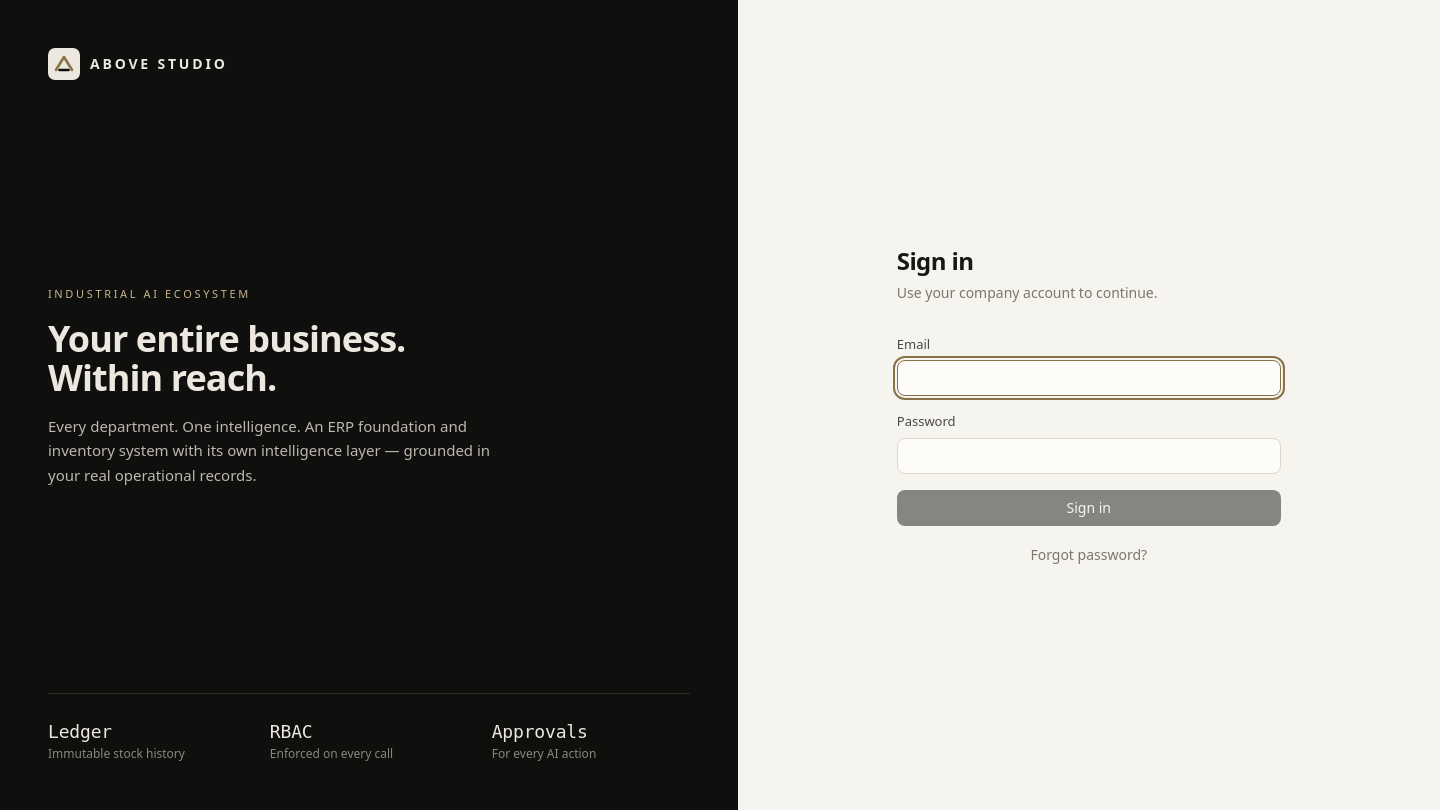
Test case: LoginPage › shows server errors
Type "x@demo.example.com" into the field labelled "Email" at [1089, 378], box x1=897 y1=360 x2=1281 y2=396
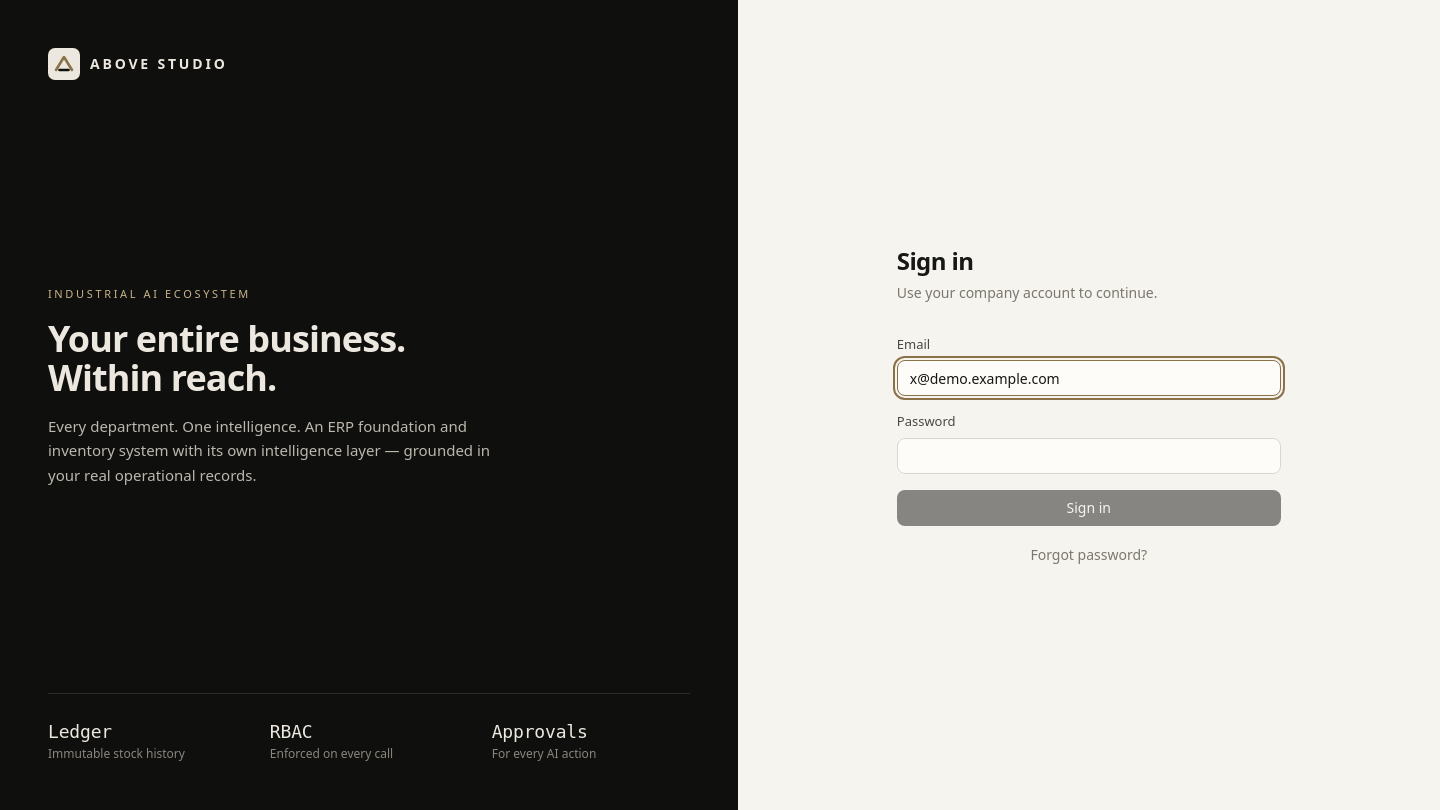
Type "wrong" into the password field labelled "Password" at [1089, 456], box x1=897 y1=438 x2=1281 y2=474
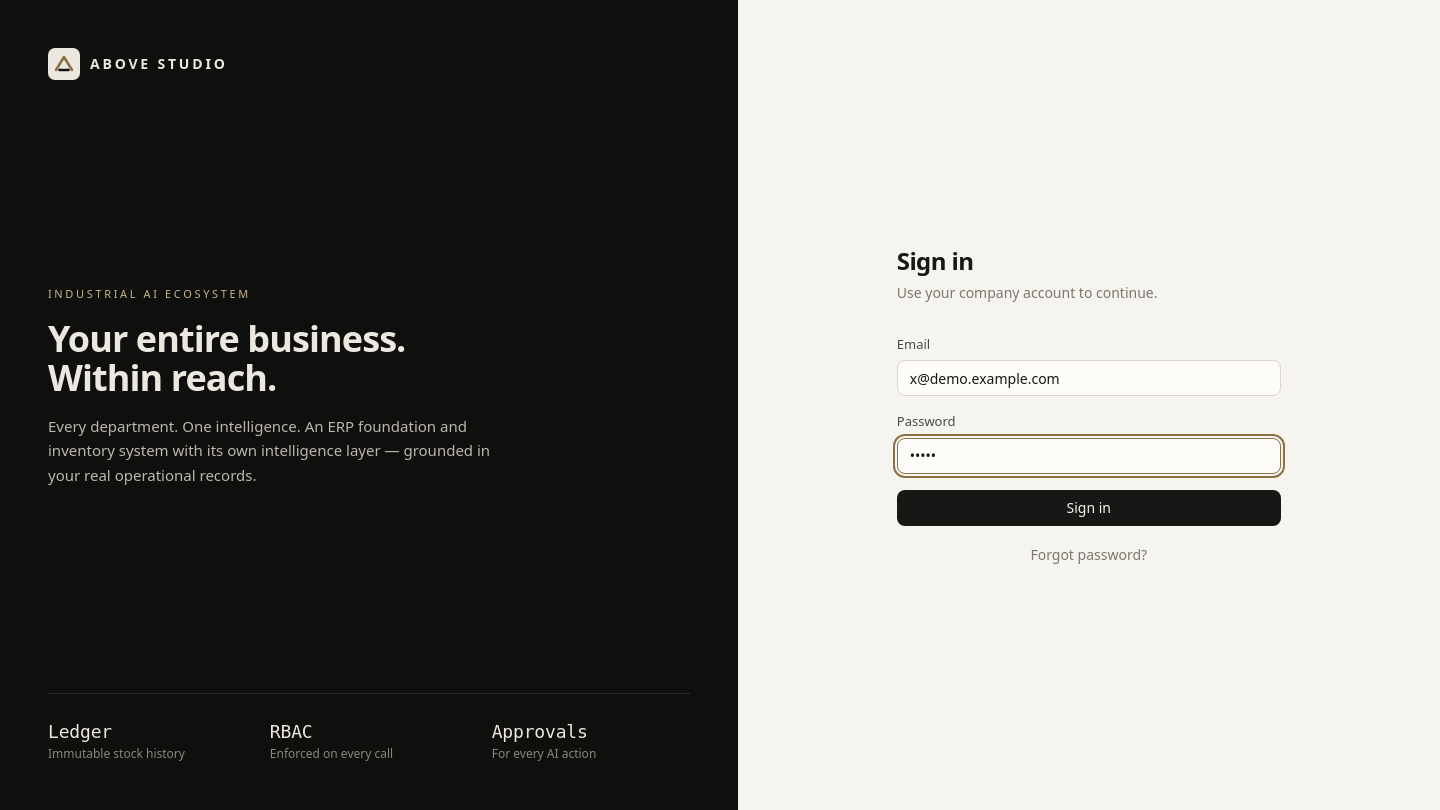
Click the button "Sign in" at [1089, 508], box x1=897 y1=490 x2=1281 y2=526
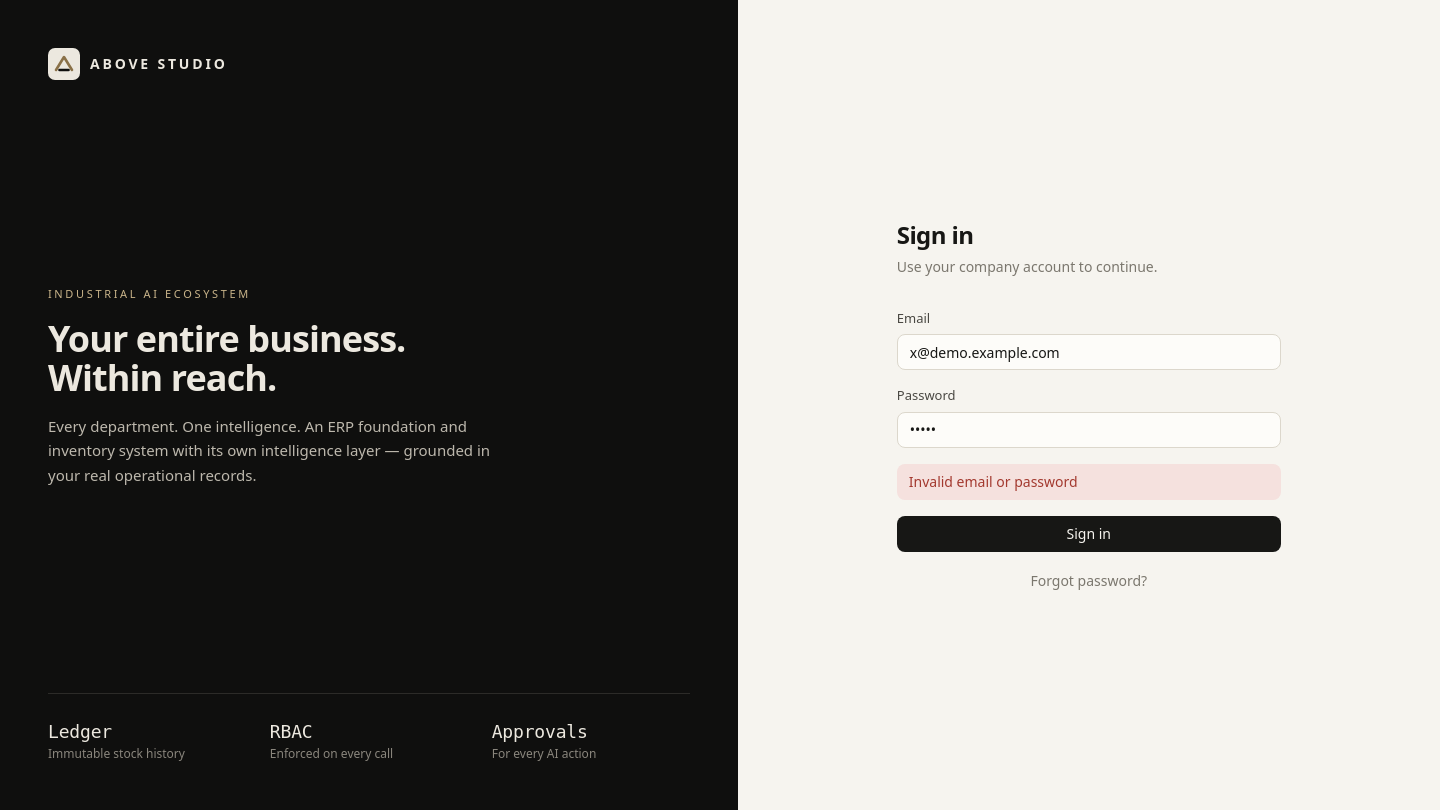
Expected: the message reads "Invalid email or password", x1=909 y1=472 x2=1078 y2=490
